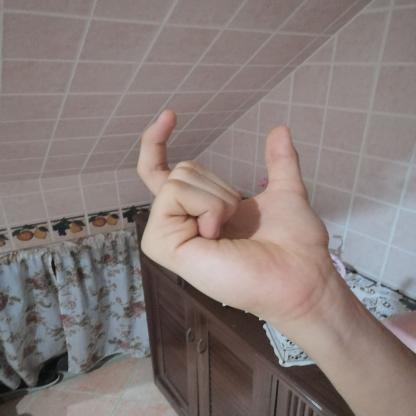NOON: (123, 101, 356, 326)
